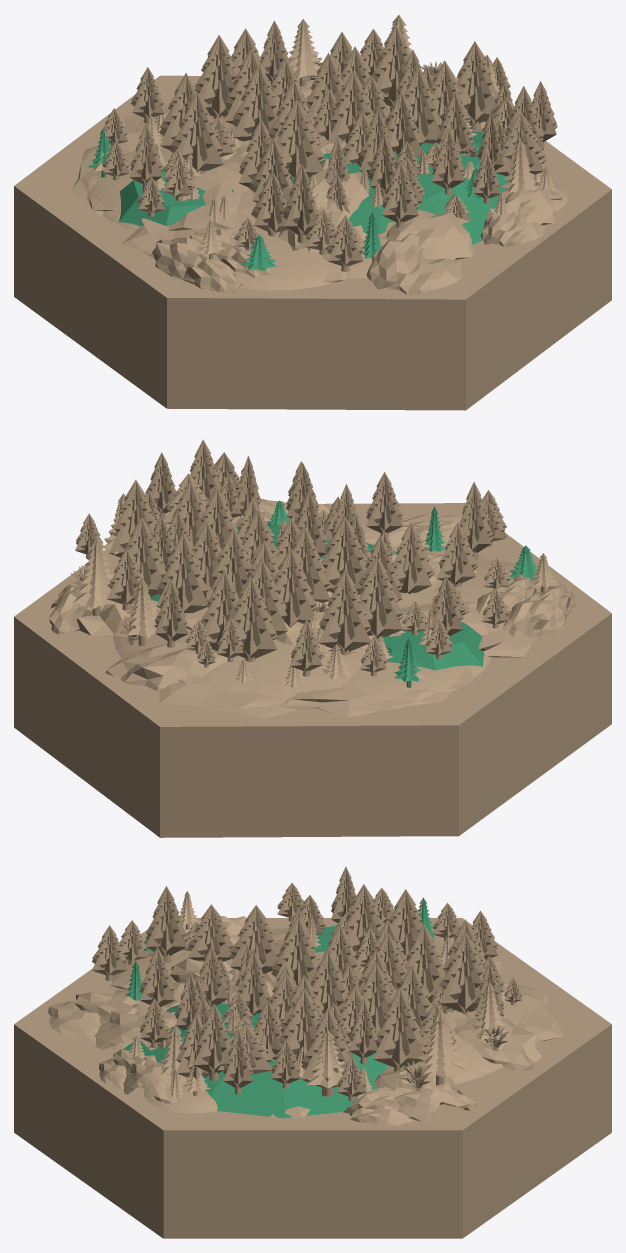
File: forest_4.glb
3 views of the same model, one above another, from view 1: azimuth 30°, elevation 25°; view 2: azimuth 150°, elevation 25°; view 3: azimuth 270°, elevation 25° (orthographic). The views are drawn at different scales.
Parts seen in each view (by area): view 1: Mesh_Mesh_head_geo.001_lambert2SG.001; view 2: Mesh_Mesh_head_geo.001_lambert2SG.001; view 3: Mesh_Mesh_head_geo.001_lambert2SG.001.
Boxes of the visible parts, <box> form: Mesh_Mesh_head_geo.001_lambert2SG.001: <box>14,15,611,410</box>; Mesh_Mesh_head_geo.001_lambert2SG.001: <box>14,439,611,837</box>; Mesh_Mesh_head_geo.001_lambert2SG.001: <box>14,866,611,1238</box>.
Size of the model in its own units: 84 by 38 by 100.
